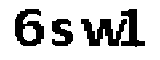1: (121, 6, 153, 51)
6: (11, 5, 45, 49)
s: (47, 17, 77, 52)
w: (76, 15, 126, 50)
